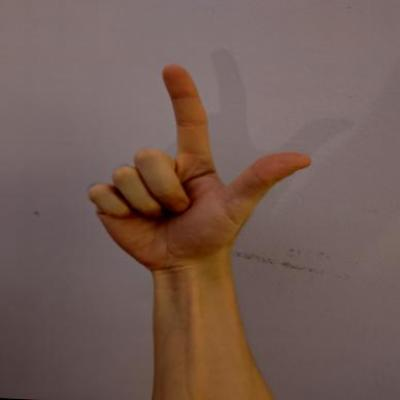hand: (80, 53, 322, 280)
